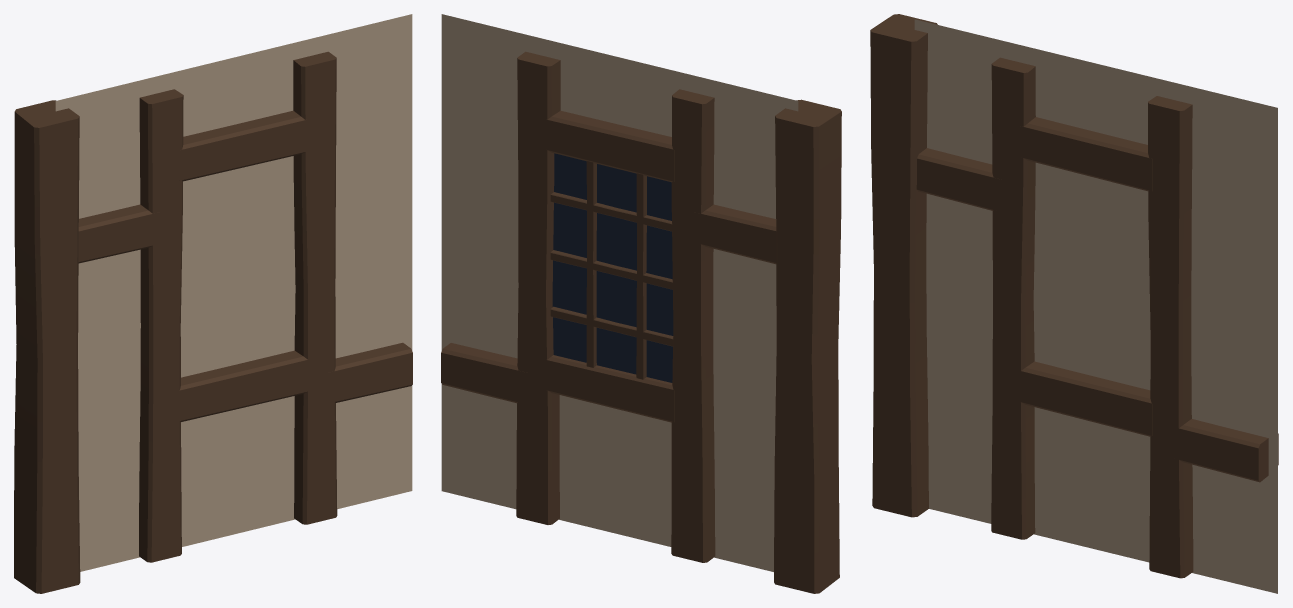
Rendered from WindowWall1.fbx.
The picture shows the model from 3 angles, left to right: view 1: azimuth 30°, elevation 25°; view 2: azimuth 150°, elevation 25°; view 3: azimuth 330°, elevation 25°; orthographic projection.
Visible parts, largest first — view 1: Cube.006; view 2: Cube.006; view 3: Cube.006.
Part boxes in pixels (box(x1,y1,x2,y2)): Cube.006: box(14, 14, 412, 593); Cube.006: box(441, 14, 841, 593); Cube.006: box(870, 14, 1278, 593).
Size of the model in its own units: 2.18 by 2.56 by 0.2435.
